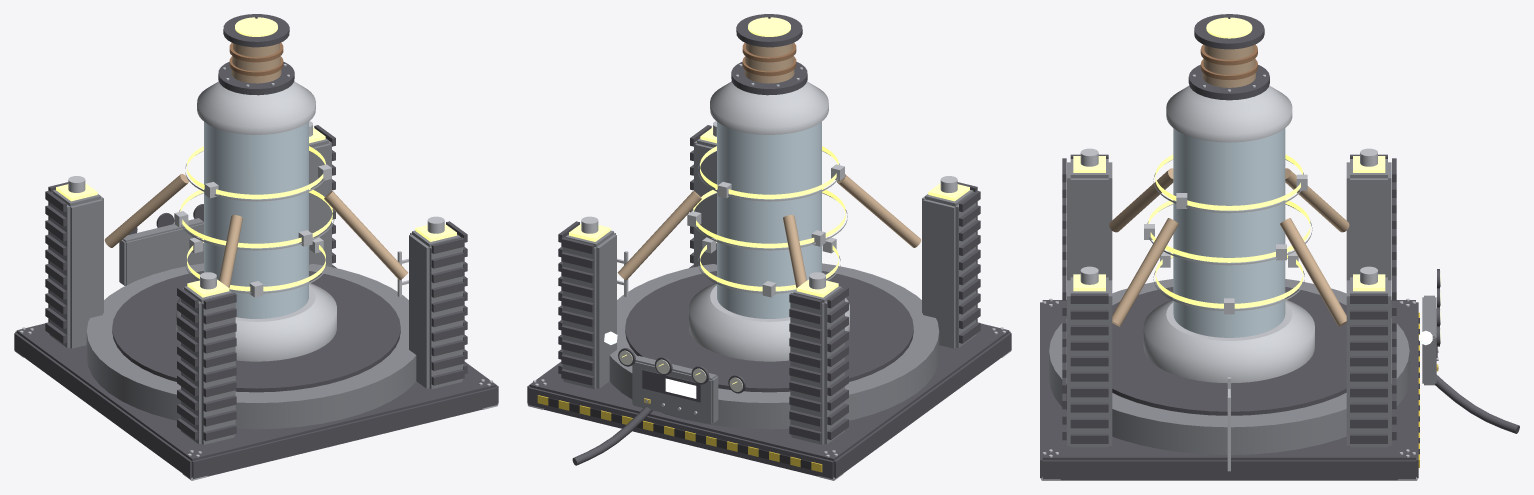
The model's file is heater_4.fbx.
The picture shows the model from 3 angles, left to right: view 1: azimuth 30°, elevation 25°; view 2: azimuth 150°, elevation 25°; view 3: azimuth 270°, elevation 25°; orthographic projection. The views are drawn at different scales.
Parts seen in each view (by area): view 1: heater_4, Spin_Y_Ring1, Spin_Y_Ring2, Spin_Y_Ring0; view 2: heater_4, Spin_Y_Ring1, Spin_Y_Ring2, Spin_Y_Ring0; view 3: heater_4, Spin_Y_Ring0, Spin_Y_Ring1, Spin_Y_Ring2.
Boxes of the visible parts, bbox=[...] form: heater_4: bbox=[14, 14, 498, 480]; Spin_Y_Ring1: bbox=[174, 188, 334, 250]; Spin_Y_Ring2: bbox=[185, 146, 331, 201]; Spin_Y_Ring0: bbox=[185, 237, 327, 297]; heater_4: bbox=[527, 14, 1011, 480]; Spin_Y_Ring1: bbox=[687, 188, 847, 250]; Spin_Y_Ring2: bbox=[698, 146, 844, 201]; Spin_Y_Ring0: bbox=[698, 237, 840, 297]; heater_4: bbox=[1040, 14, 1519, 480]; Spin_Y_Ring0: bbox=[1153, 251, 1304, 314]; Spin_Y_Ring1: bbox=[1144, 199, 1312, 265]; Spin_Y_Ring2: bbox=[1153, 154, 1307, 213].
Bounding box in the file's own units: 4.57 × 4.73 × 5.32.
